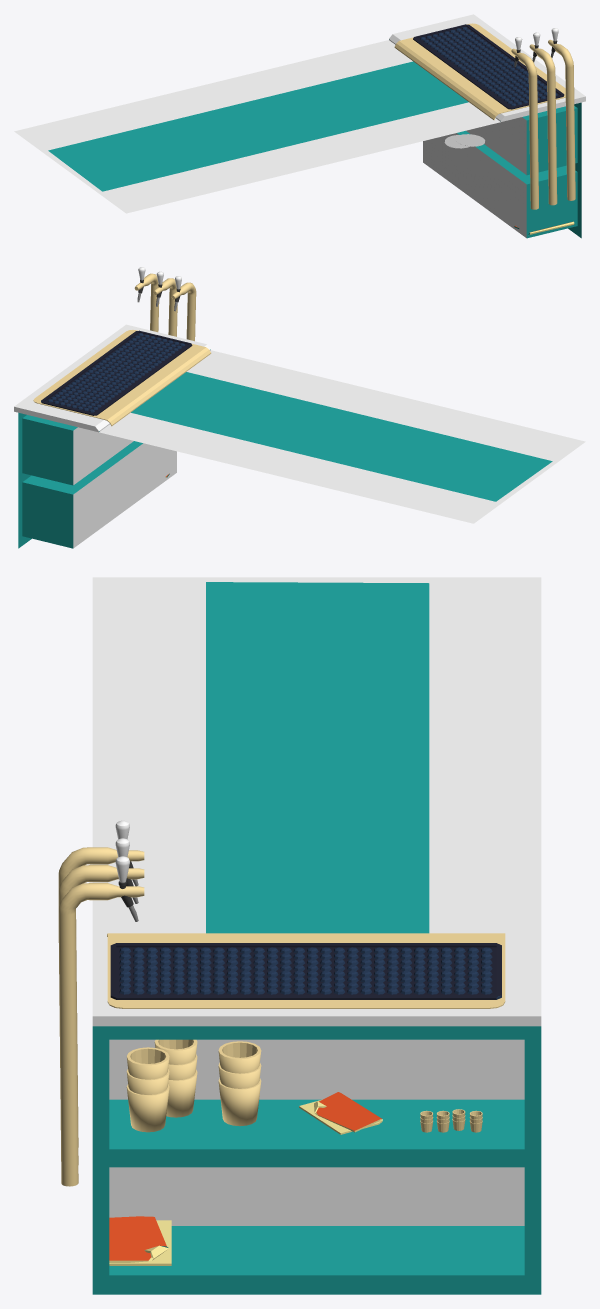
File: Table_white.FBX
3 views of the same model, one above another, from view 1: azimuth 30°, elevation 25°; view 2: azimuth 150°, elevation 25°; view 3: azimuth 270°, elevation 25° (orthographic). The views are drawn at different scales.
Parts seen in each view (by area): view 1: stol, bigpodstavka, skatert, kran.000, kran.002, kran.001, Podstavkapodkrygky.002; view 2: stol, bigpodstavka, skatert, kran.001, kran.002, kran.000; view 3: stol, bigpodstavka, skatert, kran.002, Cylinder.002, stakan, Plane.001, Cylinder.001, tryapka, kran.000, kran.001.
Boxes of the visible parts, x1,y1,x2,y2 form: stol: (14,14,585,238); bigpodstavka: (413,24,564,109); skatert: (394,23,565,120); kran.000: (529,32,557,205); kran.002: (548,28,575,200); kran.001: (511,37,538,209); Podstavkapodkrygky.002: (455,134,485,146); stol: (14,324,585,548); bigpodstavka: (41,330,192,415); skatert: (33,330,211,426); kran.001: (171,276,196,341); kran.002: (134,267,159,332); kran.000: (153,271,177,336); stol: (92,577,541,1294); bigpodstavka: (110,943,501,999); skatert: (107,933,505,1008); kran.002: (58,856,144,1186); Cylinder.002: (218,1041,261,1126); stakan: (126,1047,169,1132); Plane.001: (109,1216,171,1265); Cylinder.001: (154,1039,197,1117); tryapka: (299,1092,382,1134); kran.000: (58,838,144,1164); kran.001: (58,820,144,1147).
Bounding box in the file's own units: 7065 × 3074 × 3214.
